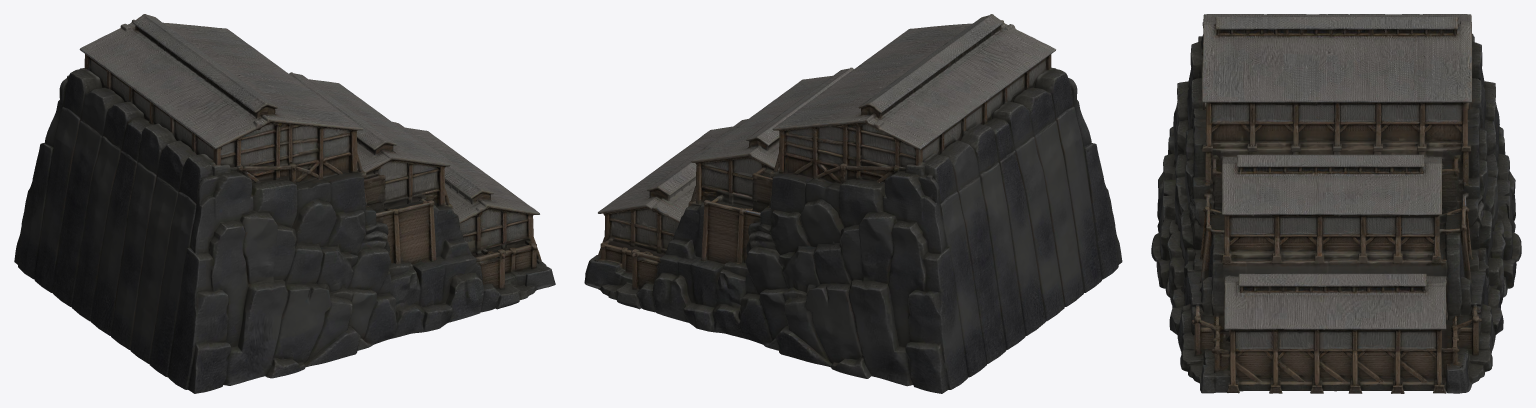
Rendered from quarryMill.glb.
The picture shows the model from 3 angles, left to right: view 1: azimuth 30°, elevation 25°; view 2: azimuth 150°, elevation 25°; view 3: azimuth 270°, elevation 25°; orthographic projection.
Parts seen in each view (by area): view 1: tripo_node_02f1104c-6f8e-4cc5-9f0d-3140dd5dc29e; view 2: tripo_node_02f1104c-6f8e-4cc5-9f0d-3140dd5dc29e; view 3: tripo_node_02f1104c-6f8e-4cc5-9f0d-3140dd5dc29e.
Part boxes in pixels (x1=…): tripo_node_02f1104c-6f8e-4cc5-9f0d-3140dd5dc29e: x1=14, y1=14, x2=555, y2=393; tripo_node_02f1104c-6f8e-4cc5-9f0d-3140dd5dc29e: x1=584, y1=14, x2=1122, y2=393; tripo_node_02f1104c-6f8e-4cc5-9f0d-3140dd5dc29e: x1=1151, y1=14, x2=1521, y2=393.
Bounding box in the file's own units: 1 × 0.5981 × 0.832.
Materials: 1 (1 with a texture image).
